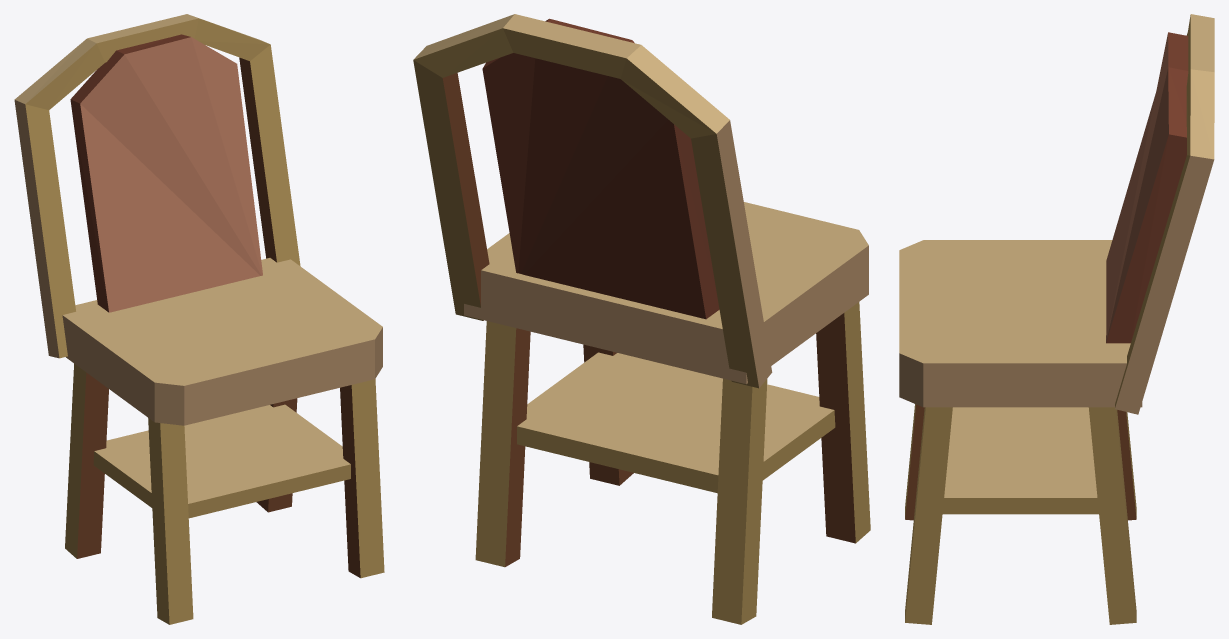
The model's file is TB_CITY_Prop_Chair_A.FBX.
The picture shows the model from 3 angles, left to right: view 1: azimuth 30°, elevation 25°; view 2: azimuth 150°, elevation 25°; view 3: azimuth 270°, elevation 25°; orthographic projection. The views are drawn at different scales.
Visible parts, largest first — view 1: TB_CITY_Prop_Chair_A; view 2: TB_CITY_Prop_Chair_A; view 3: TB_CITY_Prop_Chair_A.
Part boxes in pixels (left/top/right/bottom): TB_CITY_Prop_Chair_A: left=14, top=14, right=384, bottom=624; TB_CITY_Prop_Chair_A: left=413, top=14, right=870, bottom=624; TB_CITY_Prop_Chair_A: left=899, top=14, right=1214, bottom=624.
Bounding box in the file's own units: 0.7778 × 1.44 × 0.7828.
